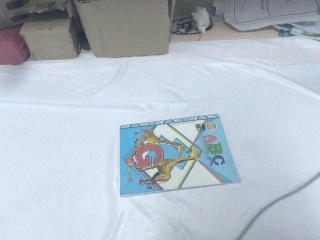book: (113, 114, 243, 196)
box: (69, 1, 171, 59), (19, 5, 83, 62)
